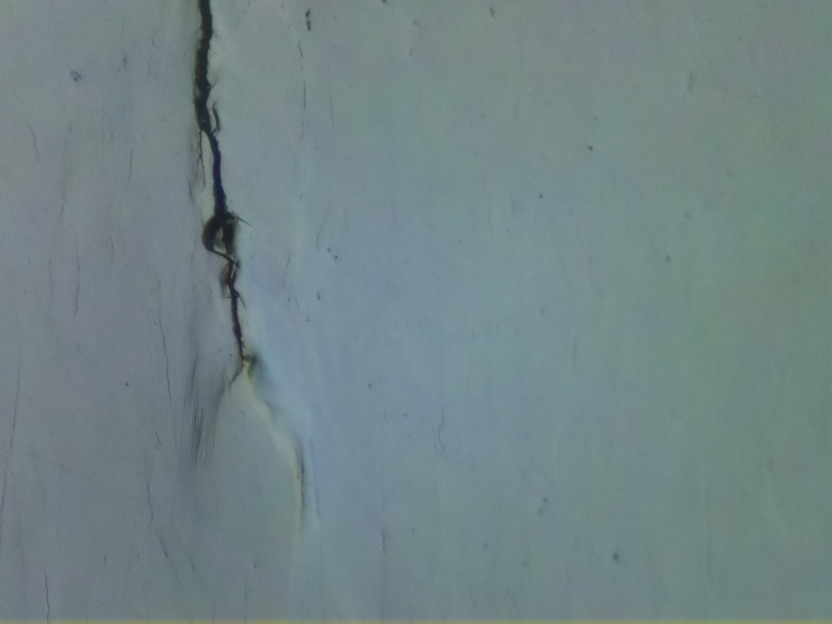crack: (192, 0, 259, 367)
